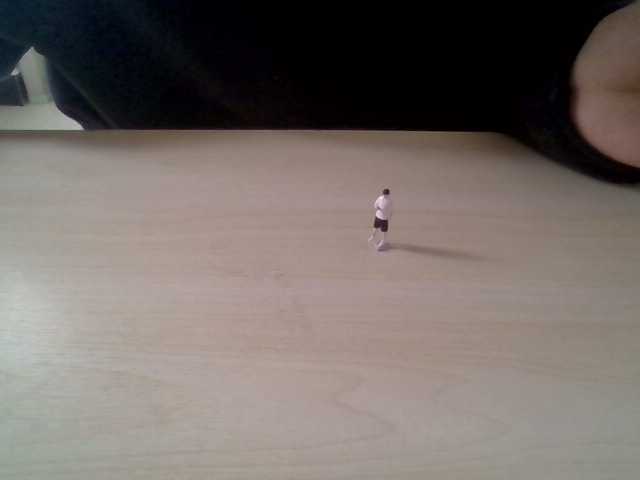walk: (364, 183, 397, 254)
